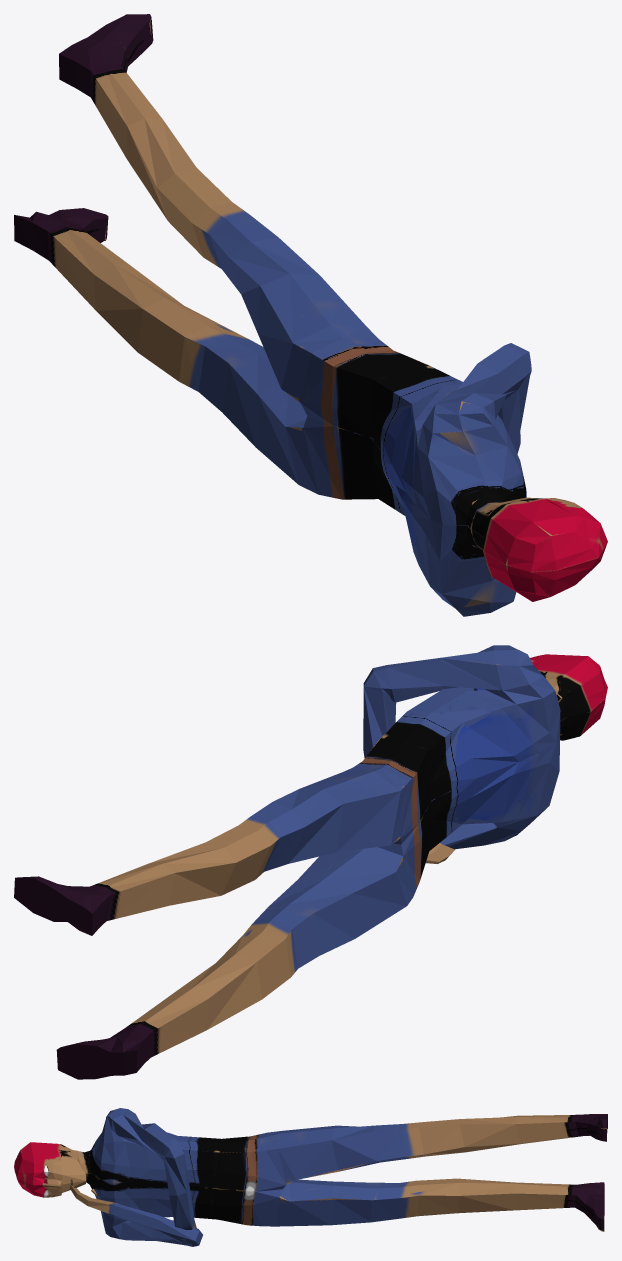
File: mirrorman_000013.obj
The picture shows the model from 3 angles, top to bottom: view 1: azimuth 30°, elevation 25°; view 2: azimuth 150°, elevation 25°; view 3: azimuth 270°, elevation 25°; orthographic projection. The views are drawn at different scales.
Parts seen in each view (by area): view 1: mirrorman_Cube.001_Material.001; view 2: mirrorman_Cube.001_Material.001; view 3: mirrorman_Cube.001_Material.001.
Part boxes in pixels (<box>): mirrorman_Cube.001_Material.001: <box>14,14,607,616</box>; mirrorman_Cube.001_Material.001: <box>14,645,607,1079</box>; mirrorman_Cube.001_Material.001: <box>14,1108,607,1246</box>.
Bounding box in the file's own units: 0.352 × 0.494 × 1.9.
